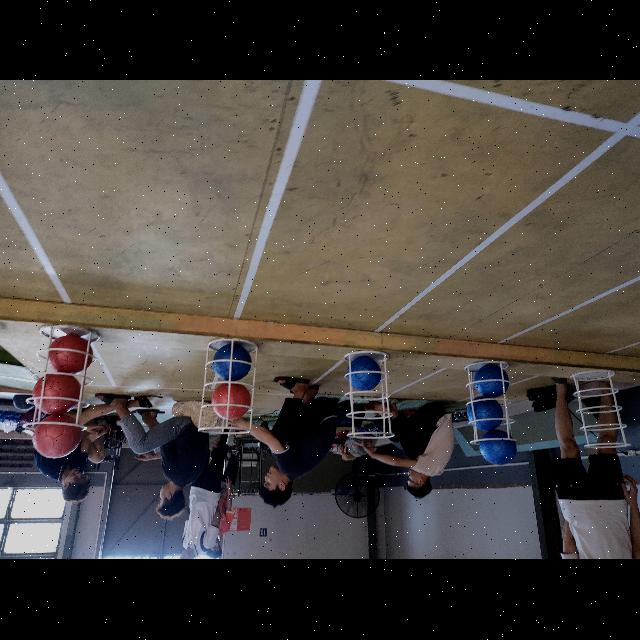B: (213, 344, 251, 382), (478, 430, 516, 466), (346, 356, 380, 392), (476, 362, 508, 398), (466, 399, 502, 429)
R: (33, 414, 83, 460), (50, 332, 92, 376), (35, 372, 79, 413), (211, 382, 249, 420)
